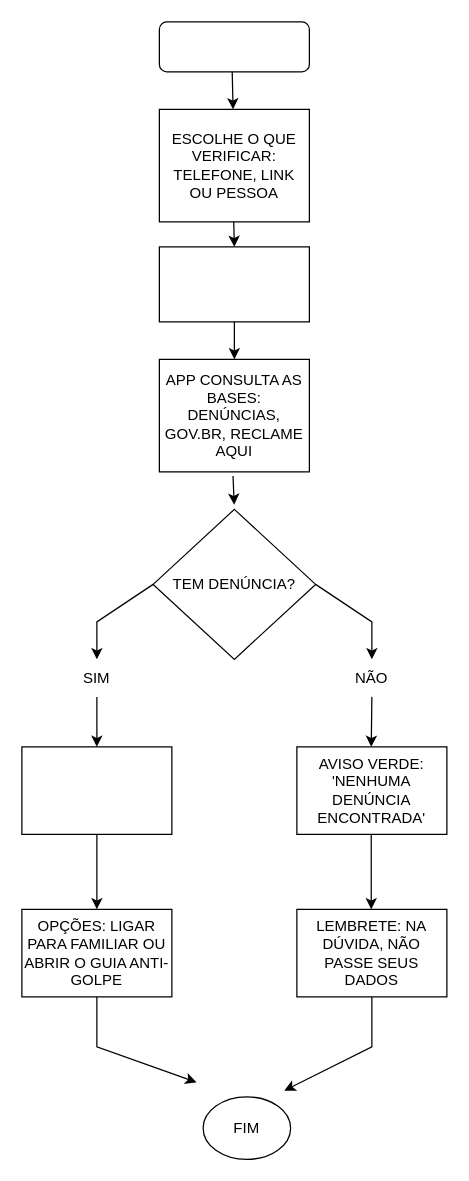
This 469x1181 diagram has some shape labels left out. Here are the shapes that lost their labels. From the top down, the centre of each, then its label:
At (x=233, y=46): "IDOSO ABRE O APP".
At (x=233, y=284): "DIGITA OU COLA O DADO".
At (x=96, y=790): "ALERTA VERMELHO: 'CUIDADO, POSSIVEL GOLPE'".
